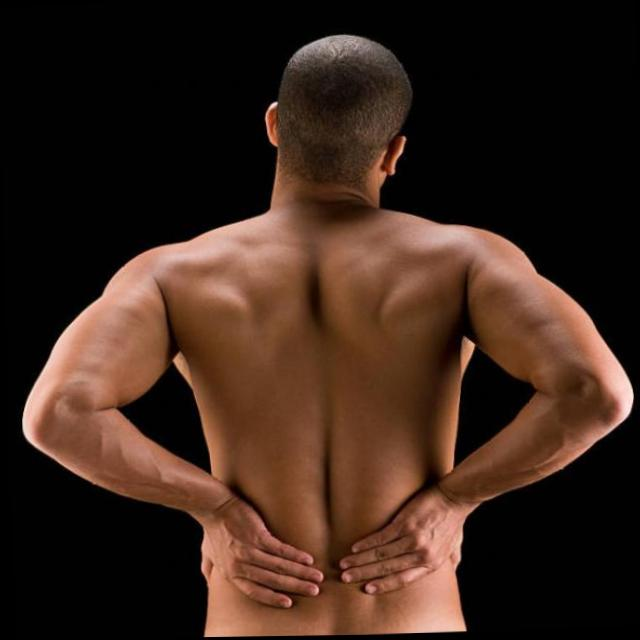no helmet: (260, 29, 414, 230)
